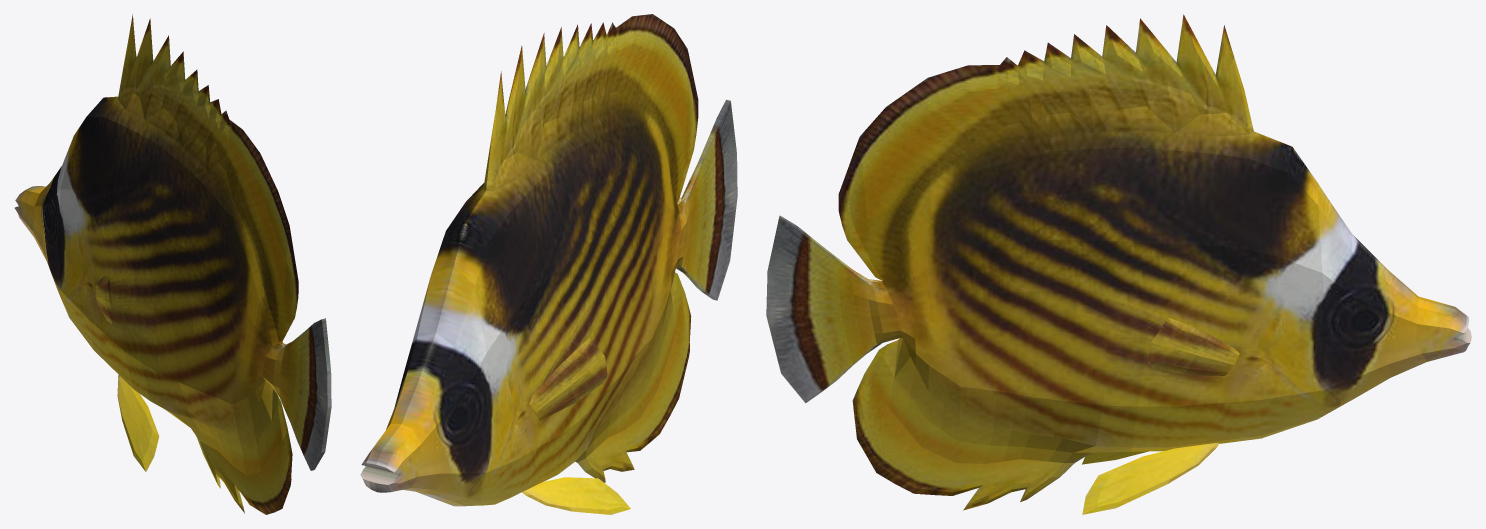
File: chaetodon-lunula.glb
3 renders of one model, left to right at view 1: azimuth 30°, elevation 25°; view 2: azimuth 150°, elevation 25°; view 3: azimuth 270°, elevation 25°, orthographic. The views are drawn at different scales.
Parts seen in each view (by area): view 1: chaetodon lunula, pelvic.l, pectoral.l; view 2: chaetodon lunula, pectoral.l, pelvic.l; view 3: chaetodon lunula, pelvic.r, pectoral.r.
Part boxes in pixels (<box>): chaetodon lunula: <box>14,14,331,514</box>; pelvic.l: <box>117,375,159,471</box>; pectoral.l: <box>95,275,112,323</box>; chaetodon lunula: <box>360,14,737,506</box>; pectoral.l: <box>529,338,607,420</box>; pelvic.l: <box>522,477,630,514</box>; chaetodon lunula: <box>766,14,1471,510</box>; pelvic.r: <box>1082,443,1219,514</box>; pectoral.r: <box>1148,317,1239,375</box>.
Bounding box in the file's own units: 0.0386 × 0.1556 × 0.2003.
Materials: 1 (1 with a texture image).
